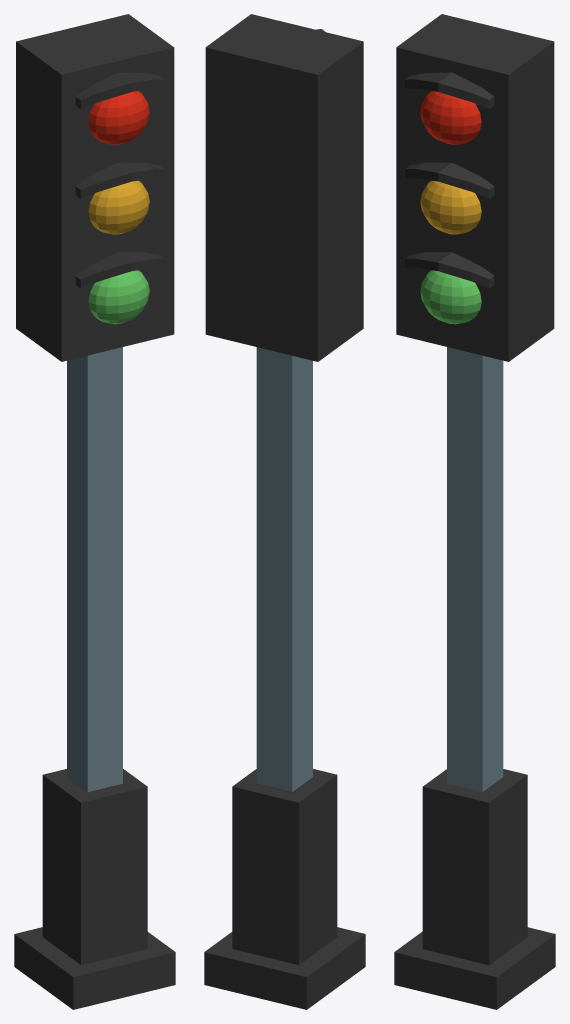
Rendered from Traffic_light_1.glb.
The picture shows the model from 3 angles, left to right: view 1: azimuth 30°, elevation 25°; view 2: azimuth 150°, elevation 25°; view 3: azimuth 330°, elevation 25°; orthographic projection.
Visible parts, largest first — view 1: Traffic light 1; view 2: Traffic light 1; view 3: Traffic light 1.
Part boxes in pixels (<box>): Traffic light 1: <box>14,14,175,1009</box>; Traffic light 1: <box>204,14,365,1009</box>; Traffic light 1: <box>394,14,555,1009</box>.
Bounding box in the file's own units: 0.3045 × 2.41 × 0.3104.
